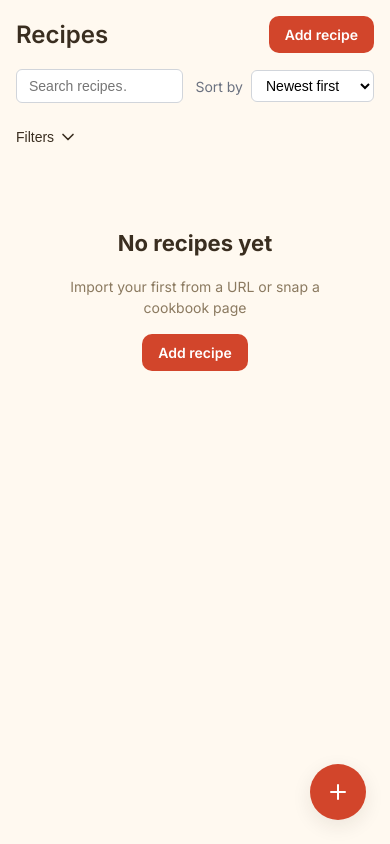
Scenario: RecipeListView › opens the AddRecipeSheet when the FAB is clicked
Click the button with class "fab" at (338, 792), box [310,764,366,820]
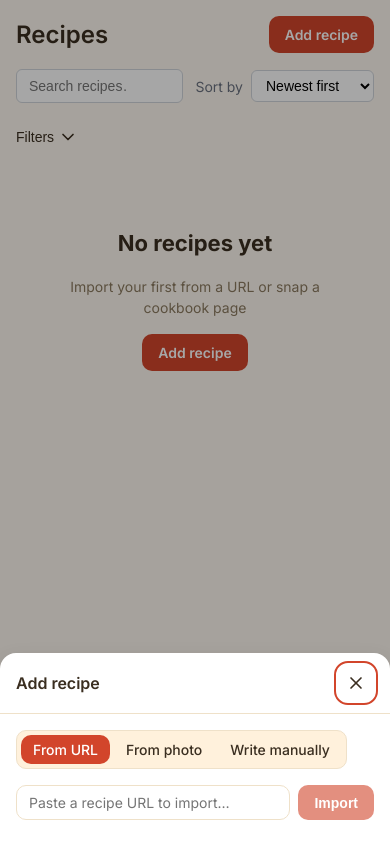
Result: the dialog with test id "add-recipe-sheet" is shown at [0,653,389,843]
